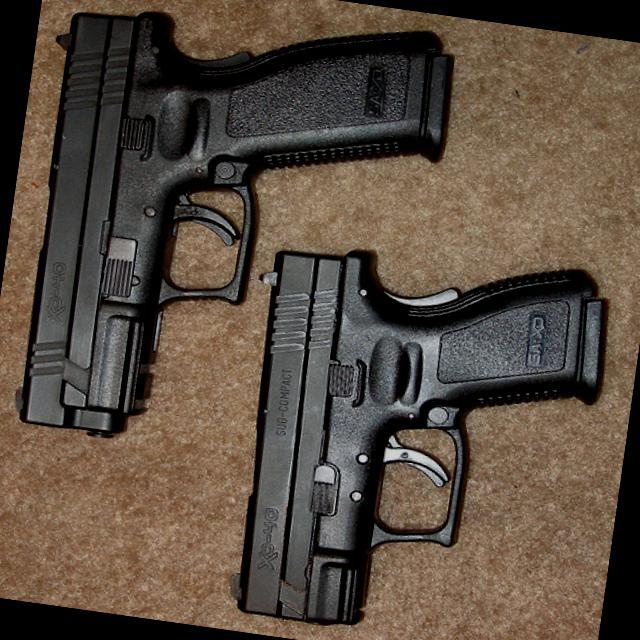handgun: (0, 0, 458, 478), (215, 226, 612, 639)
